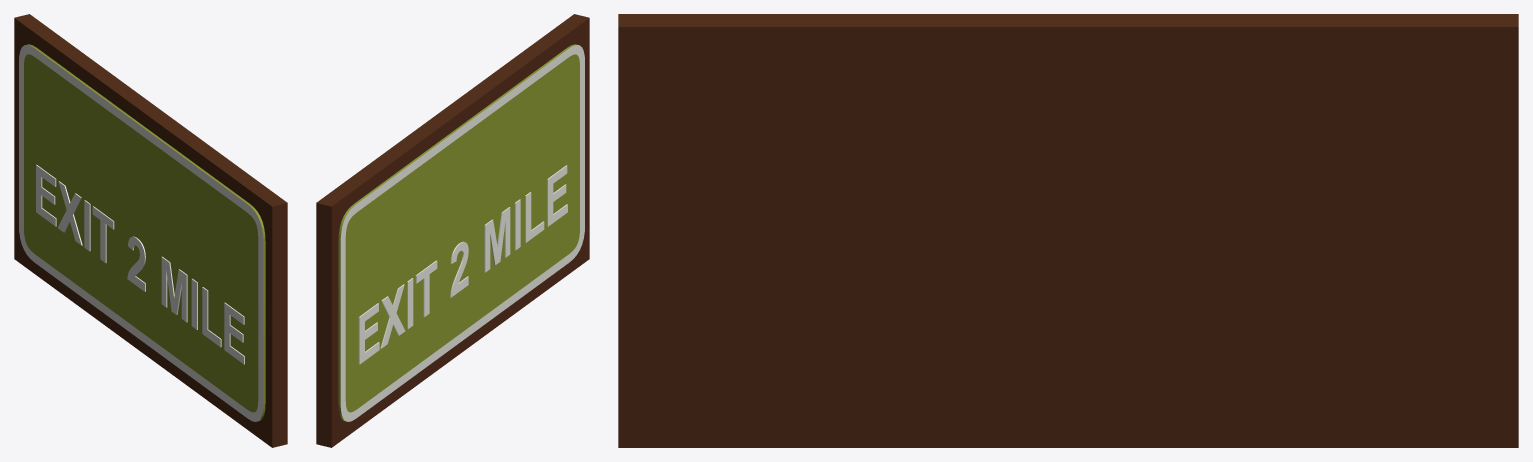
The model's file is 10 Signboard.FBX.
3 renders of one model, left to right at view 1: azimuth 30°, elevation 25°; view 2: azimuth 150°, elevation 25°; view 3: azimuth 270°, elevation 25°, orthographic. The views are drawn at different scales.
Visible parts, largest first — view 1: Signboard; view 2: Signboard; view 3: Signboard.
Part boxes in pixels (box(x1,y1,x2,y2)): Signboard: box(14, 14, 287, 447); Signboard: box(316, 14, 589, 447); Signboard: box(618, 14, 1518, 447).
Size of the model in its own units: 19.83 by 245 by 476.
